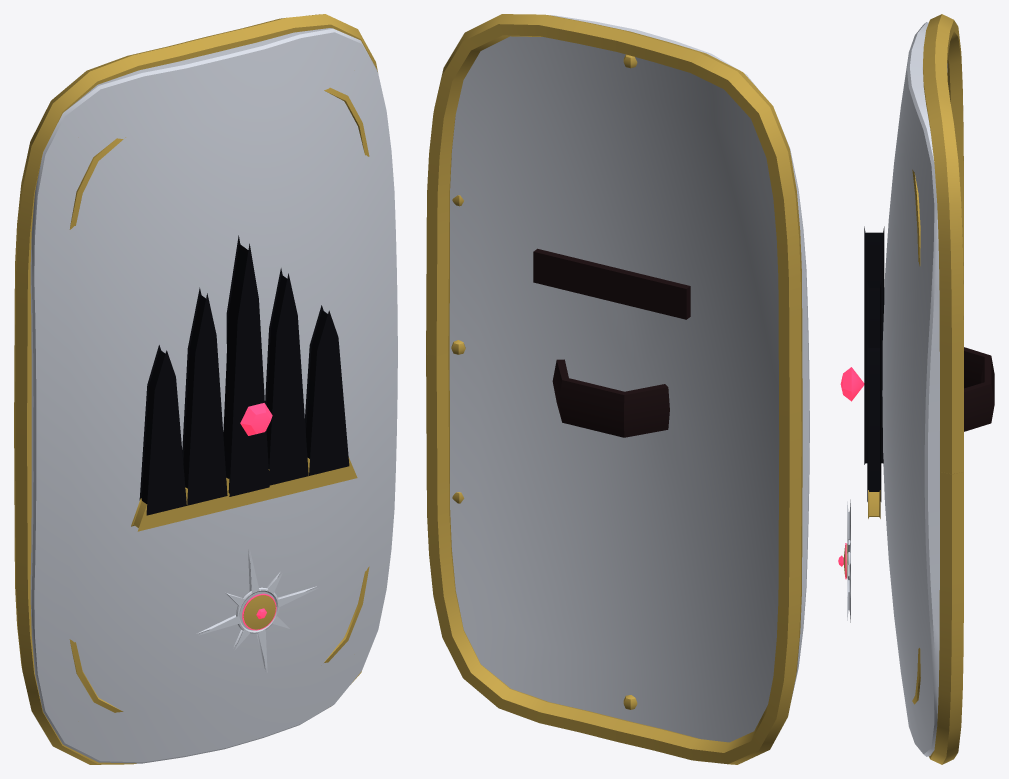
The model's file is esc_worldsend_bulwark_shield.glb.
3 renders of one model, left to right at view 1: azimuth 30°, elevation 25°; view 2: azimuth 150°, elevation 25°; view 3: azimuth 270°, elevation 25°, orthographic. The views are drawn at different scales.
Parts seen in each view (by area): view 1: esc_worldsend_bulwark_shield; view 2: esc_worldsend_bulwark_shield; view 3: esc_worldsend_bulwark_shield.
Part boxes in pixels (x1,y1,x2,y2): esc_worldsend_bulwark_shield: [14, 14, 397, 764]; esc_worldsend_bulwark_shield: [426, 14, 809, 764]; esc_worldsend_bulwark_shield: [838, 14, 994, 764].
Size of the model in its own units: 0.636 by 1.16 by 0.2478.
